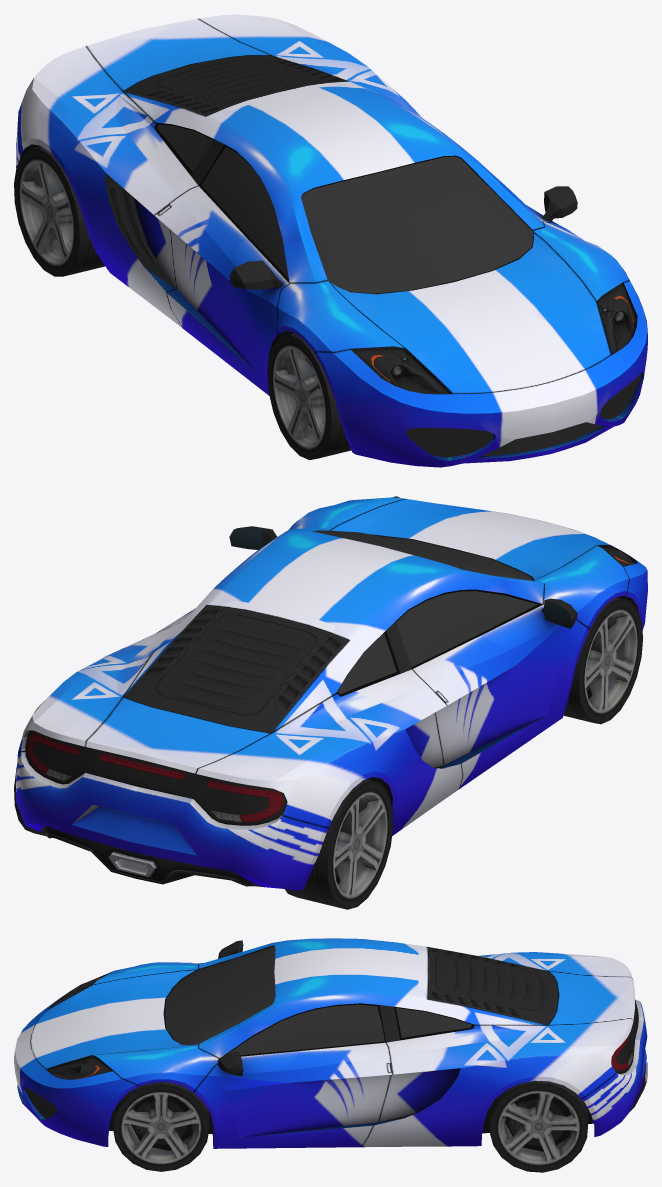
The model's file is car_8.FBX.
3 renders of one model, top to bottom at view 1: azimuth 30°, elevation 25°; view 2: azimuth 150°, elevation 25°; view 3: azimuth 270°, elevation 25°, orthographic. The views are drawn at different scales.
Visible parts, largest first — view 1: Glass_11, Matte_10, Wheel_Back_R, Wheel_R; view 2: Glass_11, Matte_10, Wheel_Back_R, Wheel_R, Taillights_10; view 3: Glass_11, Matte_10, Wheel_Back_L, Wheel_L.
Boxes of the visible parts, x1,y1,x2,y2 form: Glass_11: (16,14,647,467); Matte_10: (20,55,641,457); Wheel_Back_R: (14,146,104,276); Wheel_R: (267,333,351,460); Glass_11: (16,497,647,890); Matte_10: (25,496,638,887); Wheel_Back_R: (285,779,393,909); Wheel_R: (563,597,642,724); Taillights_10: (27,732,282,822); Glass_11: (14,938,647,1148); Matte_10: (25,940,647,1151); Wheel_Back_L: (489,1080,588,1172); Wheel_L: (113,1082,209,1171).
Size of the model in its own units: 2.11 by 1.21 by 4.51.
Materials: 2 (2 with a texture image).
